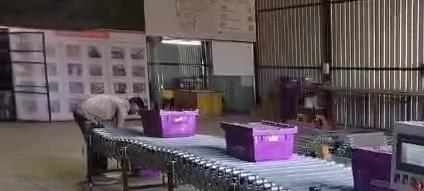box: (220, 121, 296, 161), (352, 146, 395, 190), (140, 110, 198, 137)
